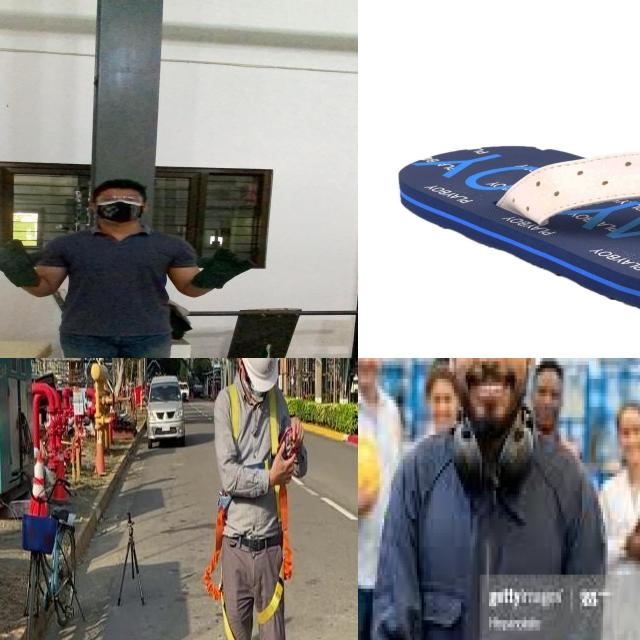Ear-protection: (492, 414, 534, 498), (447, 410, 484, 494)
Harness: (258, 485, 294, 624), (204, 492, 237, 640)
Sandals: (396, 135, 640, 330)
face_mask: (90, 190, 148, 223)
glasses: (86, 191, 144, 205)
hand_glove: (196, 247, 255, 290), (0, 237, 49, 275)
head_helmet: (358, 417, 379, 508)
head_nohelmet: (89, 175, 150, 196)
person: (379, 358, 607, 640), (32, 173, 219, 358), (358, 358, 405, 640), (603, 409, 640, 640)
